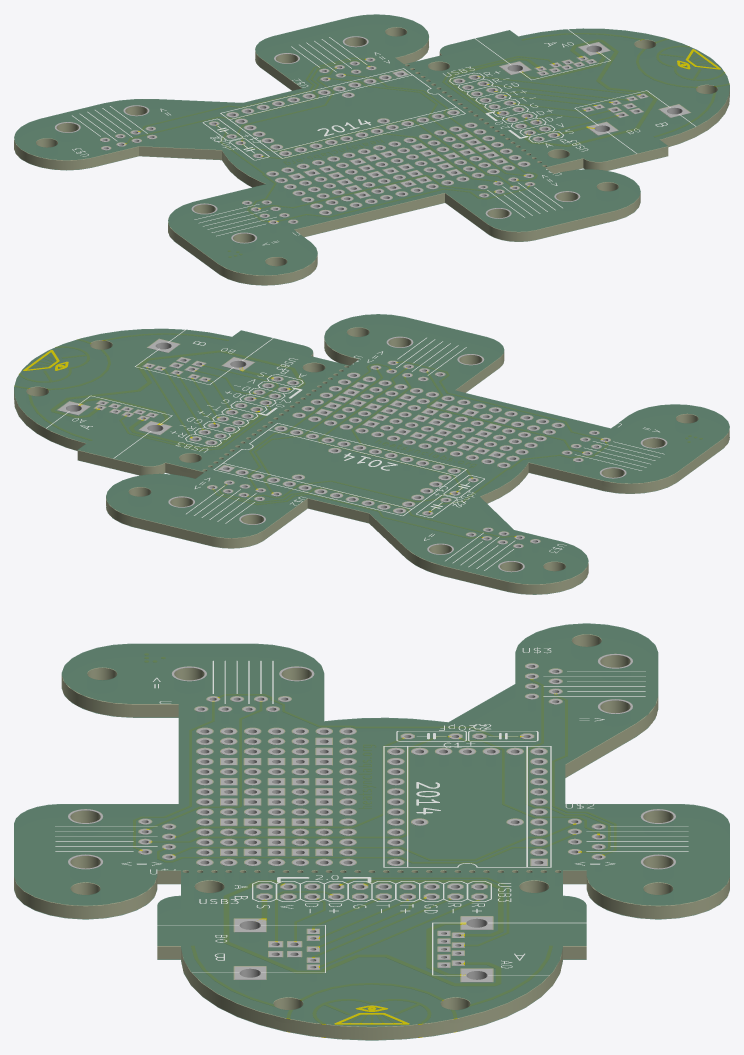
Rendered from cactuscon-2014-pcb-badge.glb.
3 views of the same model, one above another, from view 1: azimuth 30°, elevation 25°; view 2: azimuth 150°, elevation 25°; view 3: azimuth 270°, elevation 25° (orthographic). The views are drawn at different scales.
Visible parts, largest first — view 1: =>[0:1:1:6], =>[0:1:1:8], =>[0:1:1:2], =>[0:1:1:4]; view 2: =>[0:1:1:6], =>[0:1:1:8], =>[0:1:1:2], =>[0:1:1:4]; view 3: =>[0:1:1:6], =>[0:1:1:8], =>[0:1:1:2], =>[0:1:1:4].
Part boxes in pixels (bbox=[...]): =>[0:1:1:6]: bbox=[14, 14, 729, 285]; =>[0:1:1:8]: bbox=[14, 15, 729, 285]; =>[0:1:1:2]: bbox=[55, 33, 729, 257]; =>[0:1:1:4]: bbox=[72, 29, 695, 245]; =>[0:1:1:6]: bbox=[14, 314, 729, 594]; =>[0:1:1:8]: bbox=[14, 315, 729, 594]; =>[0:1:1:2]: bbox=[14, 334, 702, 572]; =>[0:1:1:4]: bbox=[46, 329, 664, 570]; =>[0:1:1:6]: bbox=[14, 623, 729, 1040]; =>[0:1:1:8]: bbox=[14, 624, 729, 1039]; =>[0:1:1:2]: bbox=[68, 654, 675, 1037]; =>[0:1:1:4]: bbox=[55, 647, 688, 975].
Bounding box in the file's own units: 0.1016 × 0.00166 × 0.0762.
4 materials, 4 textured.
